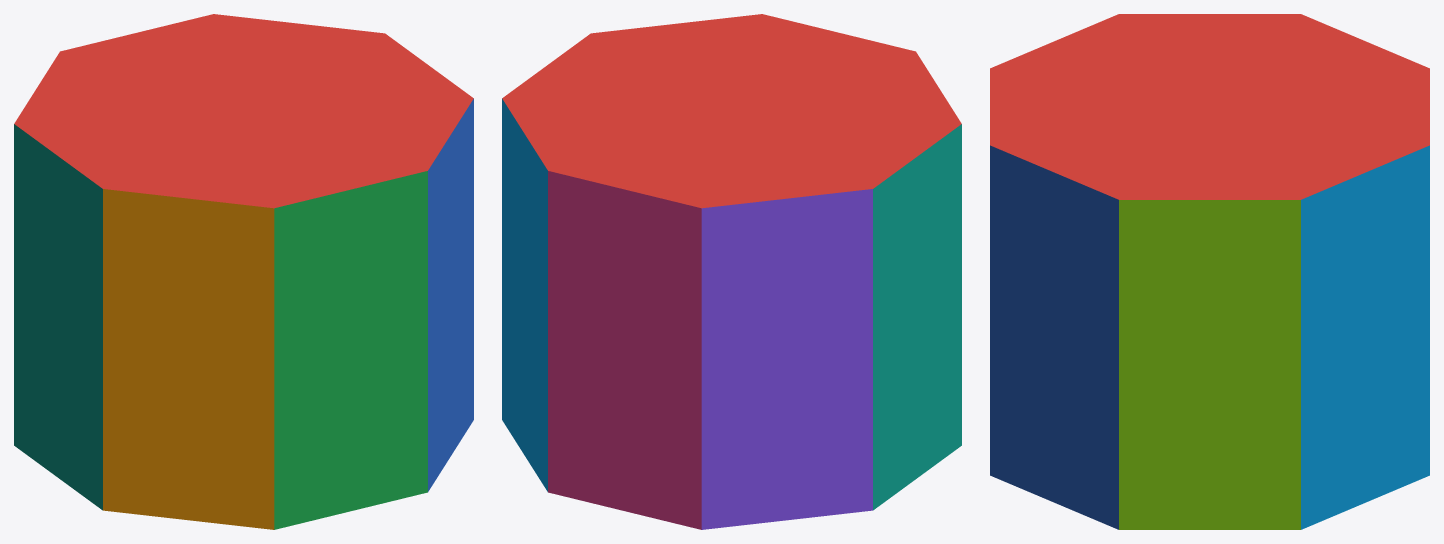
The model's file is prisma-segidelapan.glb.
3 views of the same model, side by side, from view 1: azimuth 30°, elevation 25°; view 2: azimuth 150°, elevation 25°; view 3: azimuth 270°, elevation 25° (orthographic). The views are drawn at different scales.
Parts seen in each view (by area): view 1: atas, tegak3, tegak2, tegak4, tegak1; view 2: atas, tegak5, tegak6, tegak4, tegak7; view 3: atas, tegak8, tegak1, tegak7.
Boxes of the visible parts, x1=… form: atas: x1=14, y1=14, x2=473, y2=208; tegak3: x1=103, y1=189, x2=274, y2=529; tegak2: x1=274, y1=171, x2=427, y2=529; tegak4: x1=14, y1=124, x2=102, y2=510; tegak1: x1=428, y1=98, x2=473, y2=491; atas: x1=502, y1=14, x2=961, y2=208; tegak5: x1=701, y1=189, x2=872, y2=529; tegak6: x1=548, y1=171, x2=701, y2=529; tegak4: x1=873, y1=124, x2=961, y2=510; tegak7: x1=502, y1=98, x2=547, y2=491; atas: x1=990, y1=14, x2=1429, y2=199; tegak8: x1=1119, y1=200, x2=1300, y2=529; tegak1: x1=990, y1=145, x2=1118, y2=529; tegak7: x1=1301, y1=145, x2=1429, y2=529.
Size of the model in its own units: 1.93 by 1.6 by 1.93.
